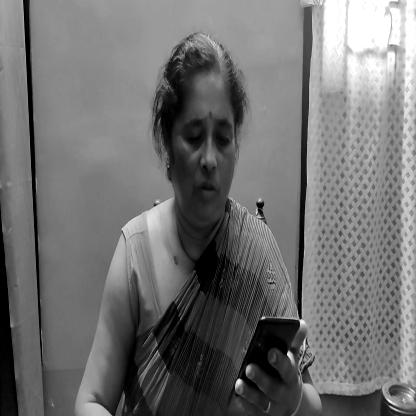Distracted: (156, 38, 246, 234)
